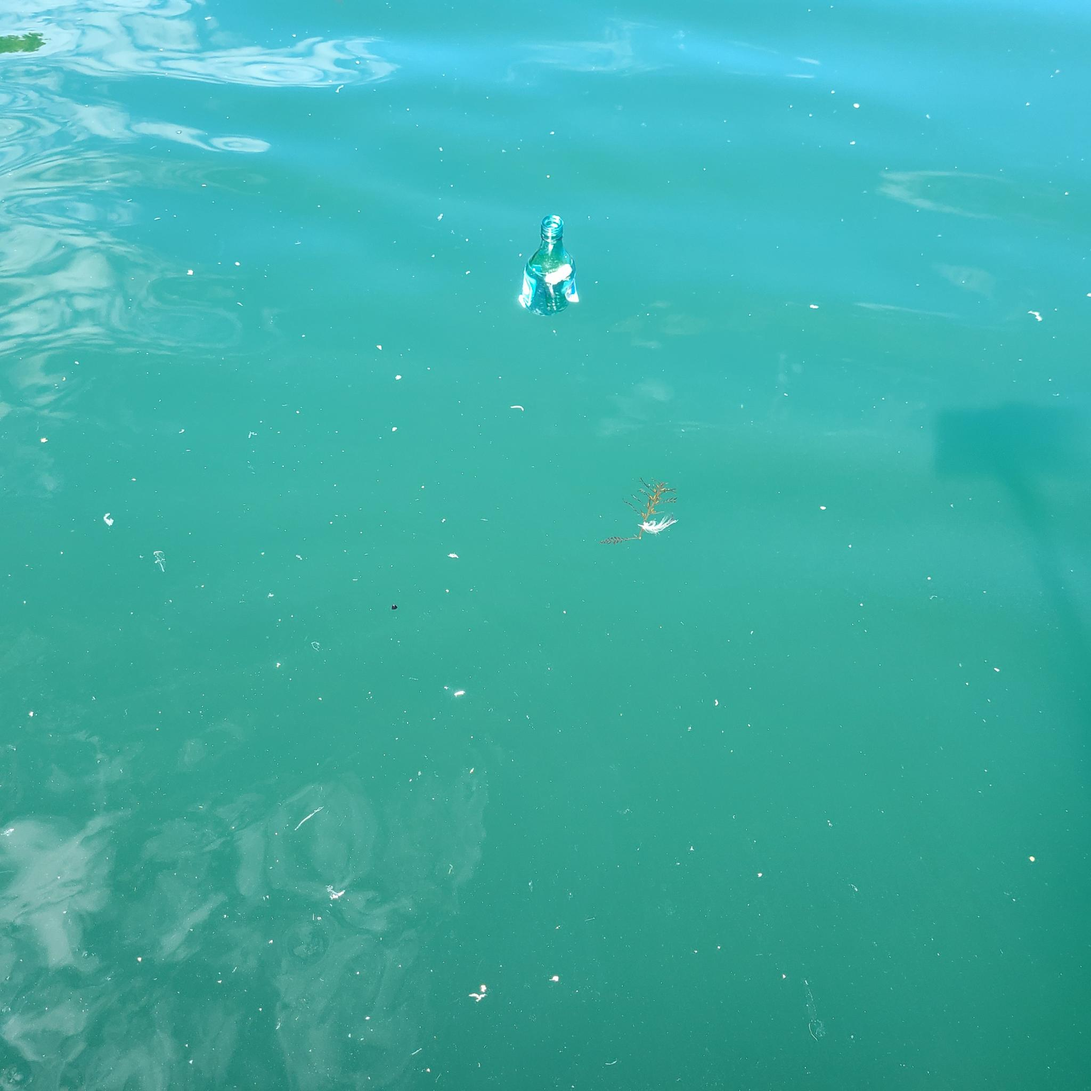sampah_terapung: (522, 216, 579, 313)
